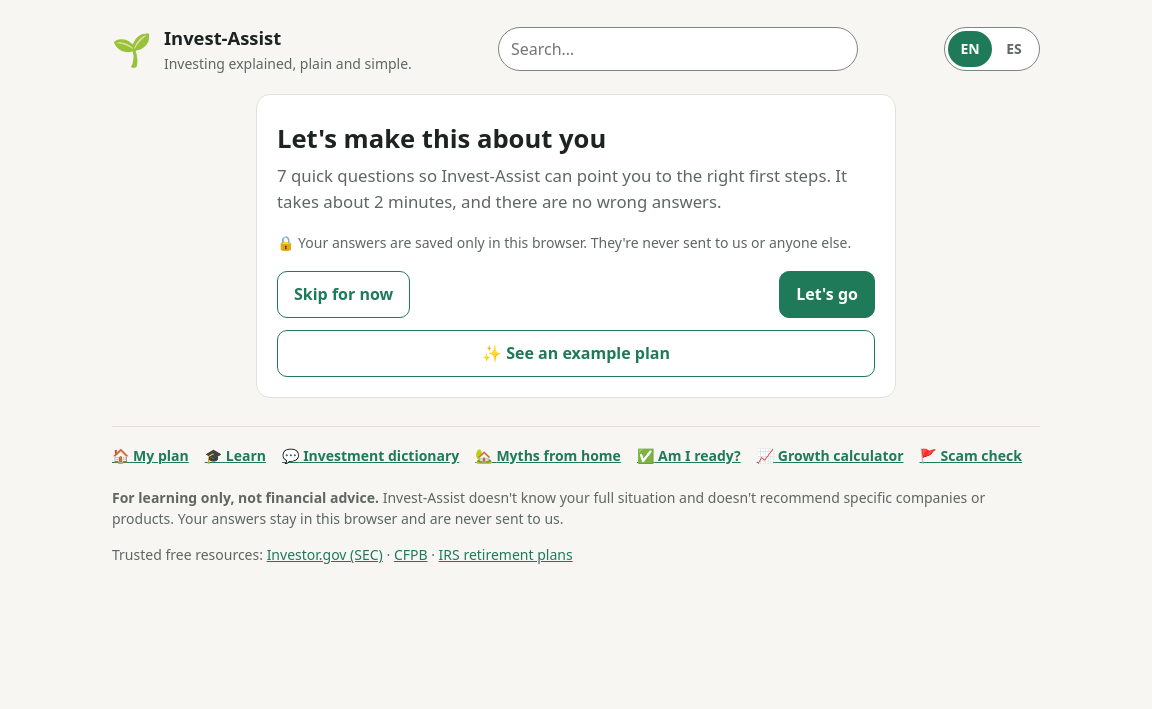
Test case: onboarding › lets people unselect an answer entirely
Click the button "Let's go".
click(827, 295)  # box [779,271,875,318]
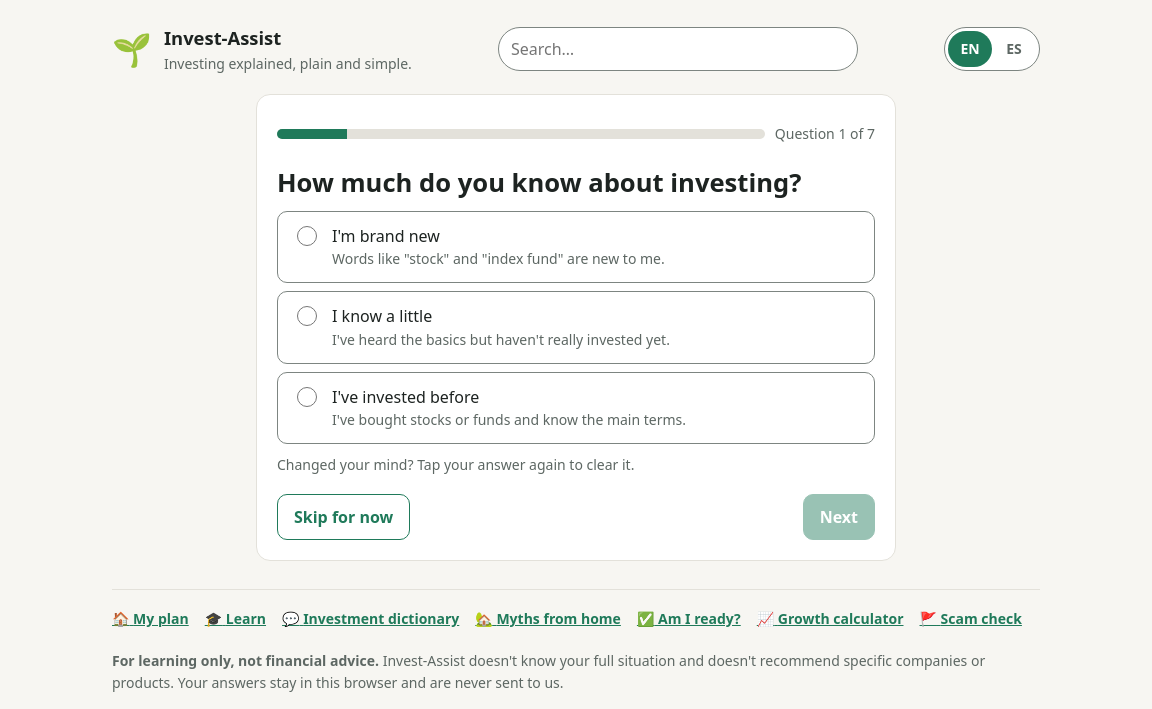
Click the radio button labelled "I know a little".
click(307, 316)  # box [297,306,317,326]
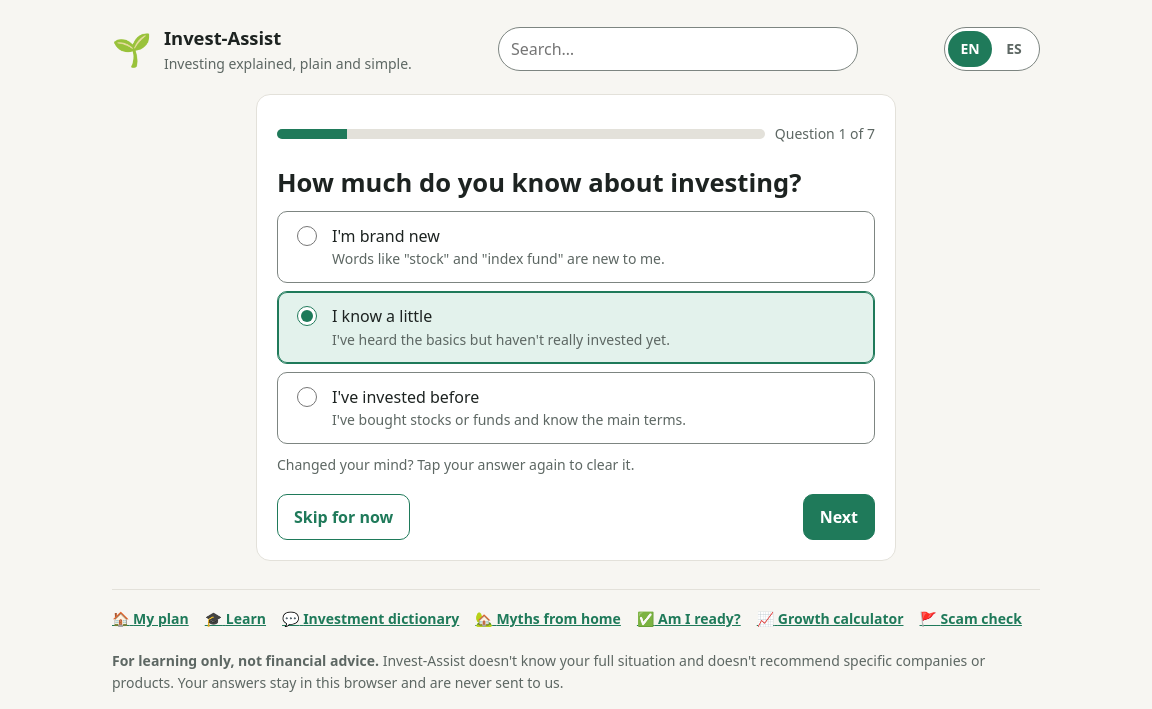
Check: the radio button labelled "I know a little" is checked
Check: the button "Next" is enabled, box [803,494,875,540]
Click the radio button labelled "I know a little".
click(307, 316)  # box [297,306,317,326]
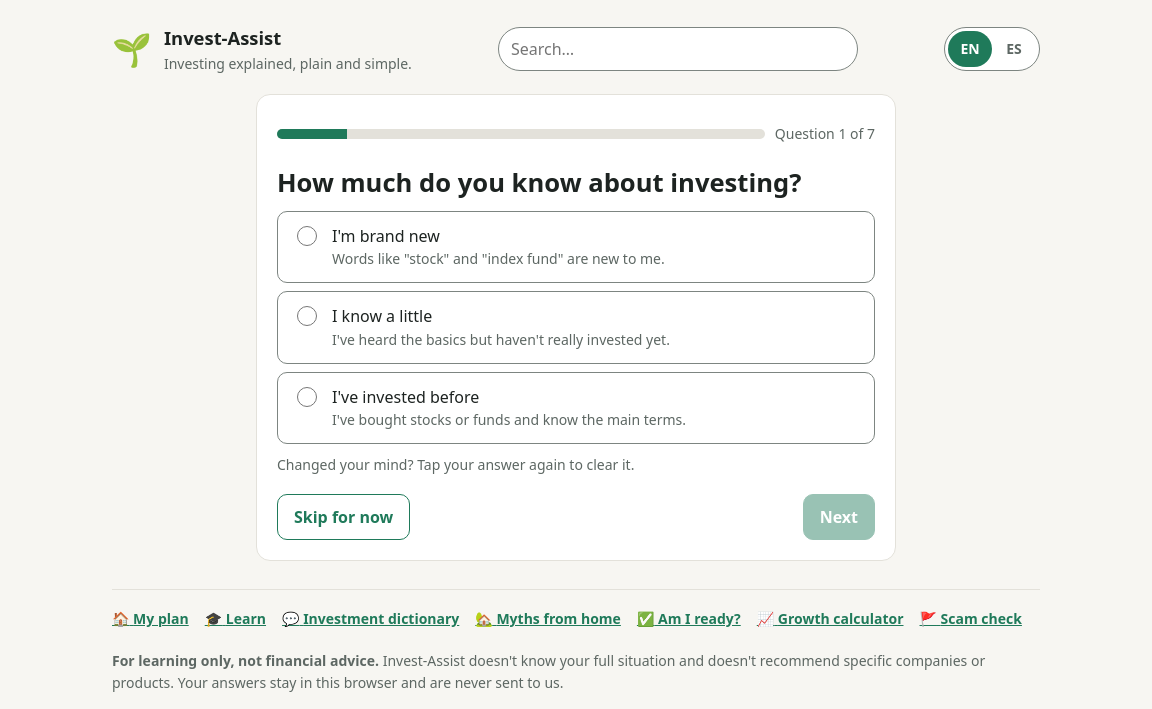
Check: the radio button labelled "I know a little" is not checked, box [297,306,317,326]
Check: the button "Next" is disabled, box [803,494,875,540]
